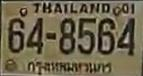4: (117, 17, 134, 55), (26, 17, 42, 53)
5: (77, 17, 95, 54)
6: (97, 17, 114, 54), (7, 17, 24, 52)
8: (58, 17, 74, 54)
BKK: (26, 59, 114, 75)
